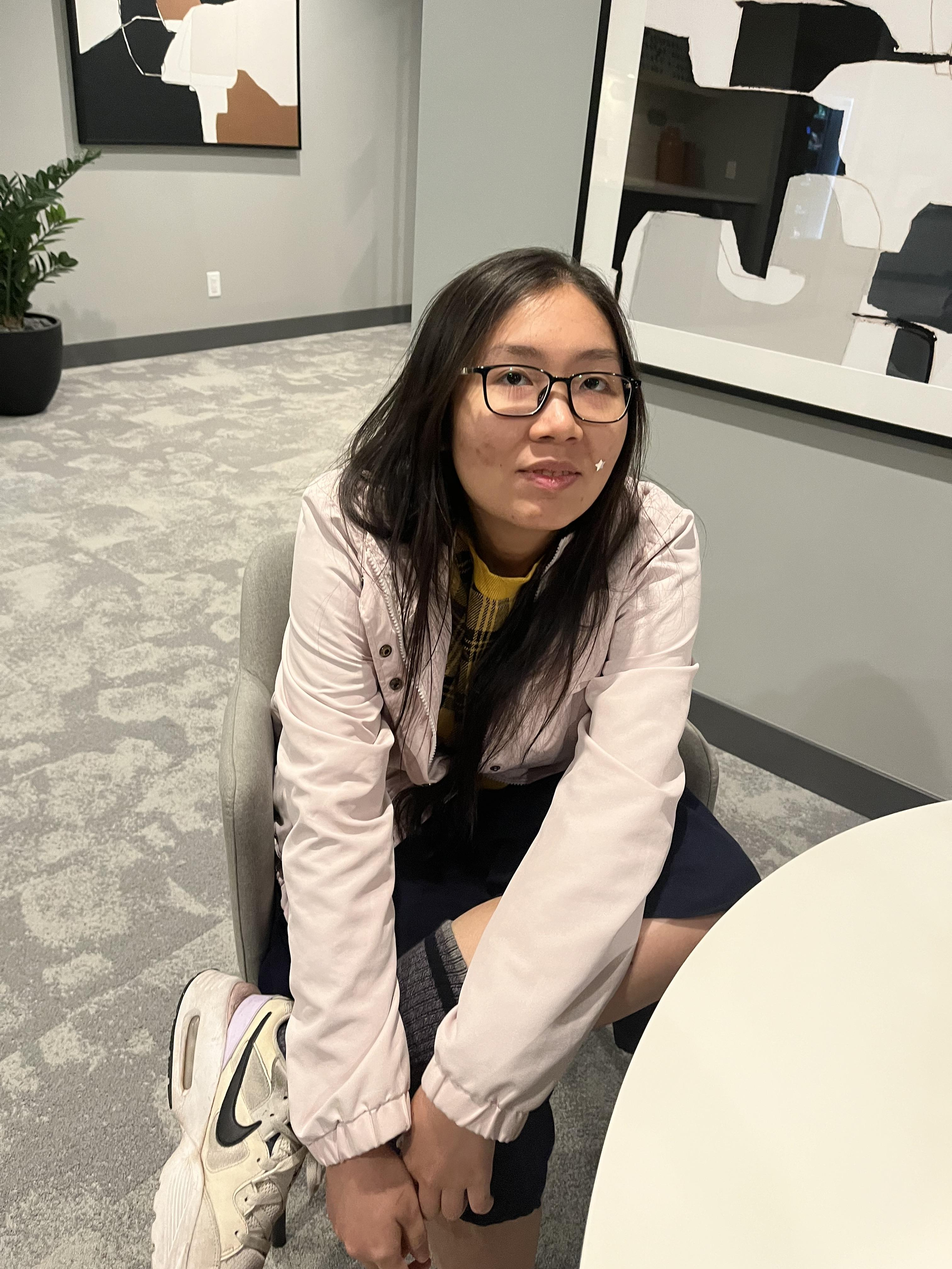BadPosture: (150, 247, 763, 1269)
